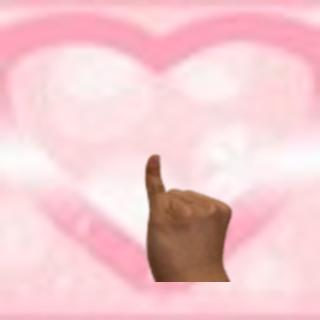FINE: (140, 151, 237, 277)
